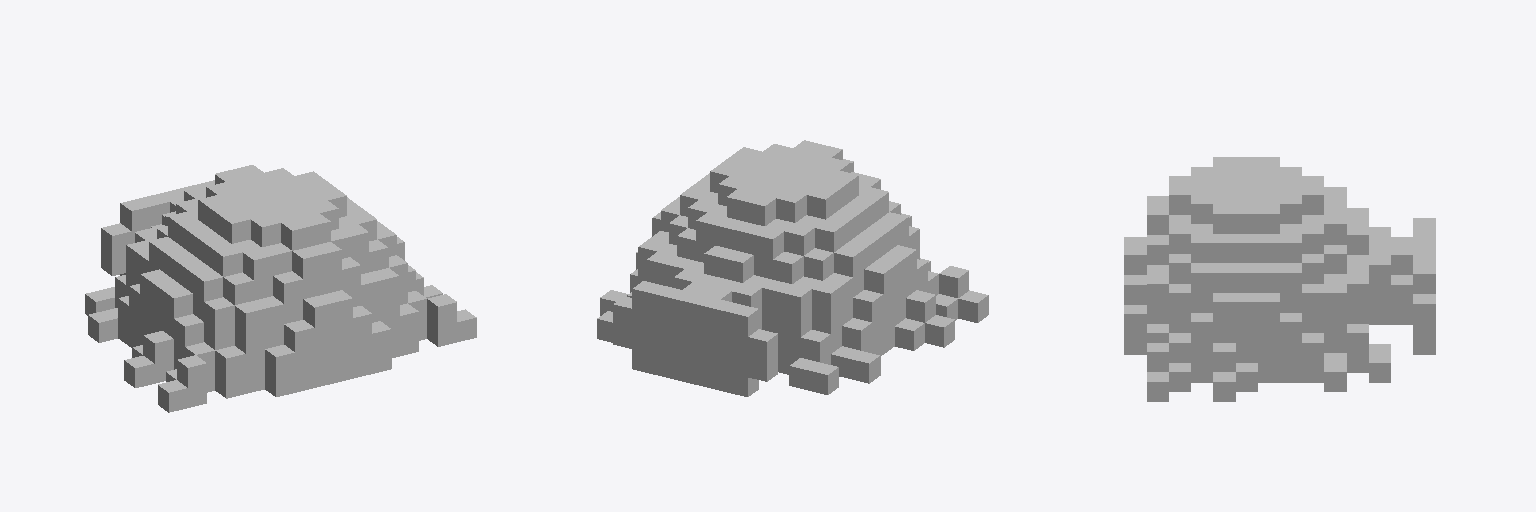
Rendered from enemy_1.obj.
3 renders of one model, left to right at view 1: azimuth 30°, elevation 25°; view 2: azimuth 150°, elevation 25°; view 3: azimuth 270°, elevation 25°, orthographic.
Visible parts, largest first — view 1: cube; view 2: cube; view 3: cube.
Part boxes in pixels (left/top/right/bottom): cube: left=85, top=165, right=476, bottom=412; cube: left=597, top=140, right=988, bottom=396; cube: left=1124, top=157, right=1435, bottom=401.
Size of the model in its own units: 1 by 0.4375 by 0.875.